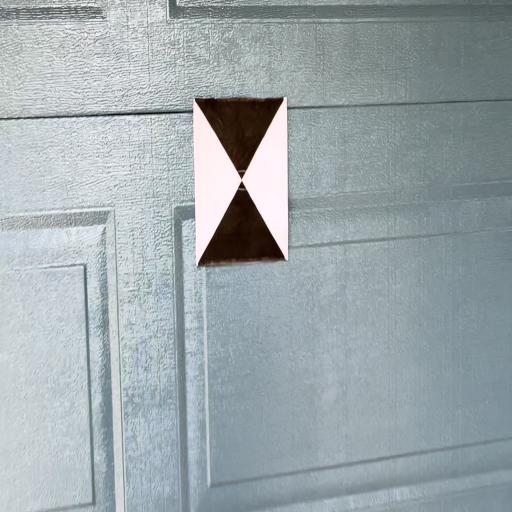target: (194, 98, 289, 266)
